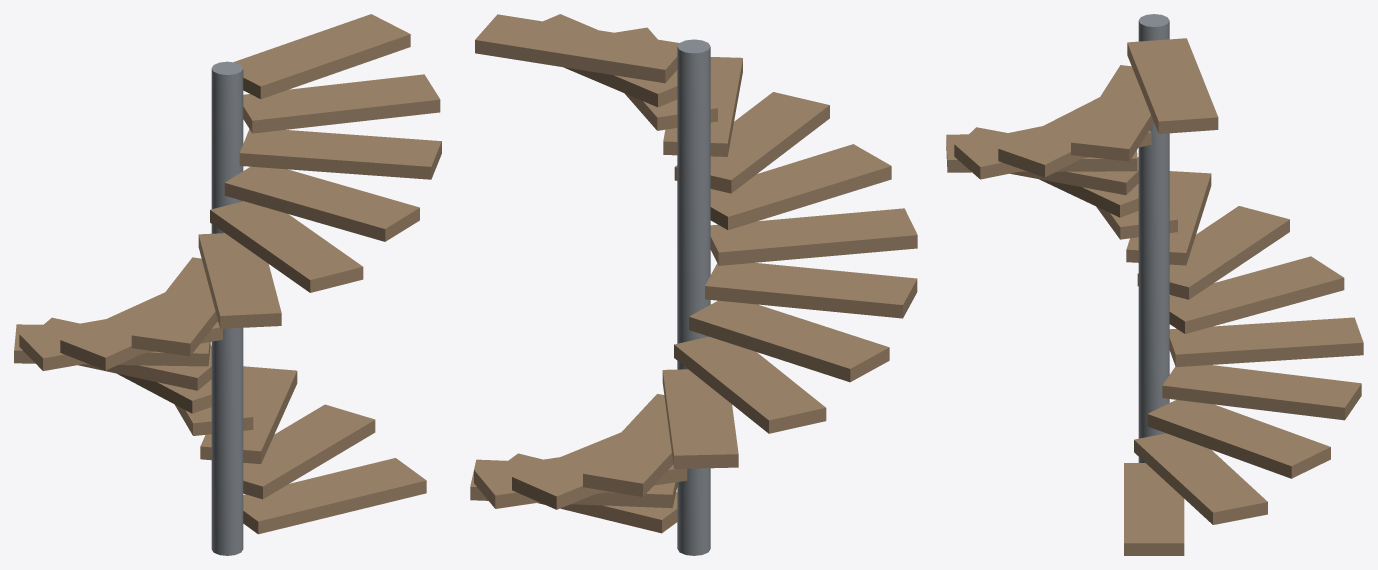
The model's file is spiral_stairs.glb.
The picture shows the model from 3 angles, left to right: view 1: azimuth 30°, elevation 25°; view 2: azimuth 150°, elevation 25°; view 3: azimuth 270°, elevation 25°; orthographic projection. The views are drawn at different scales.
Visible parts, largest first — view 1: world; view 2: world; view 3: world.
Part boxes in pixels (bbox=[...]): world: bbox=[14, 14, 441, 555]; world: bbox=[470, 14, 917, 555]; world: bbox=[946, 14, 1363, 555].
Size of the model in its own units: 2.42 by 3 by 2.42.
